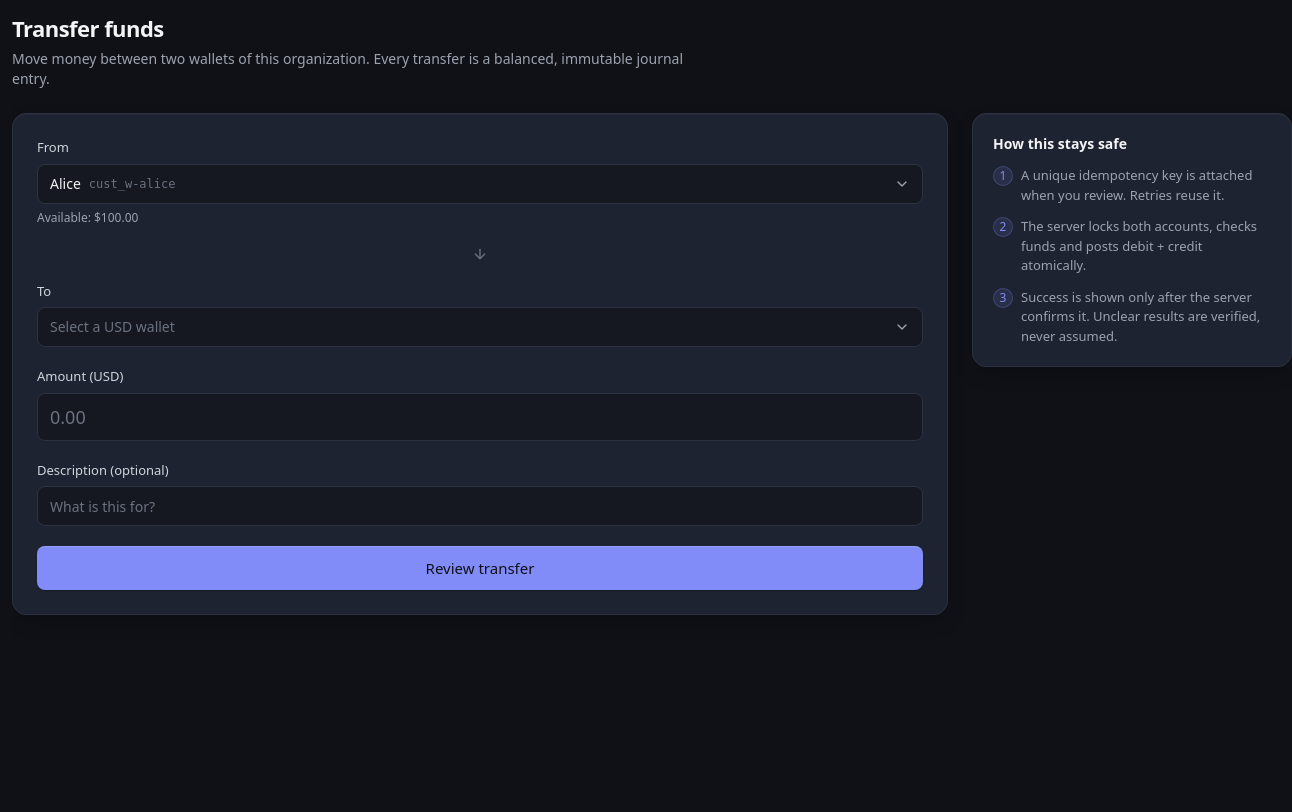
TransferPage › rejects amounts above the available balance
Expected: the text "Available: $100.00" is shown, [37,208,138,226]
Click the dropdown named "to" at (112, 326), box [37,307,923,347]
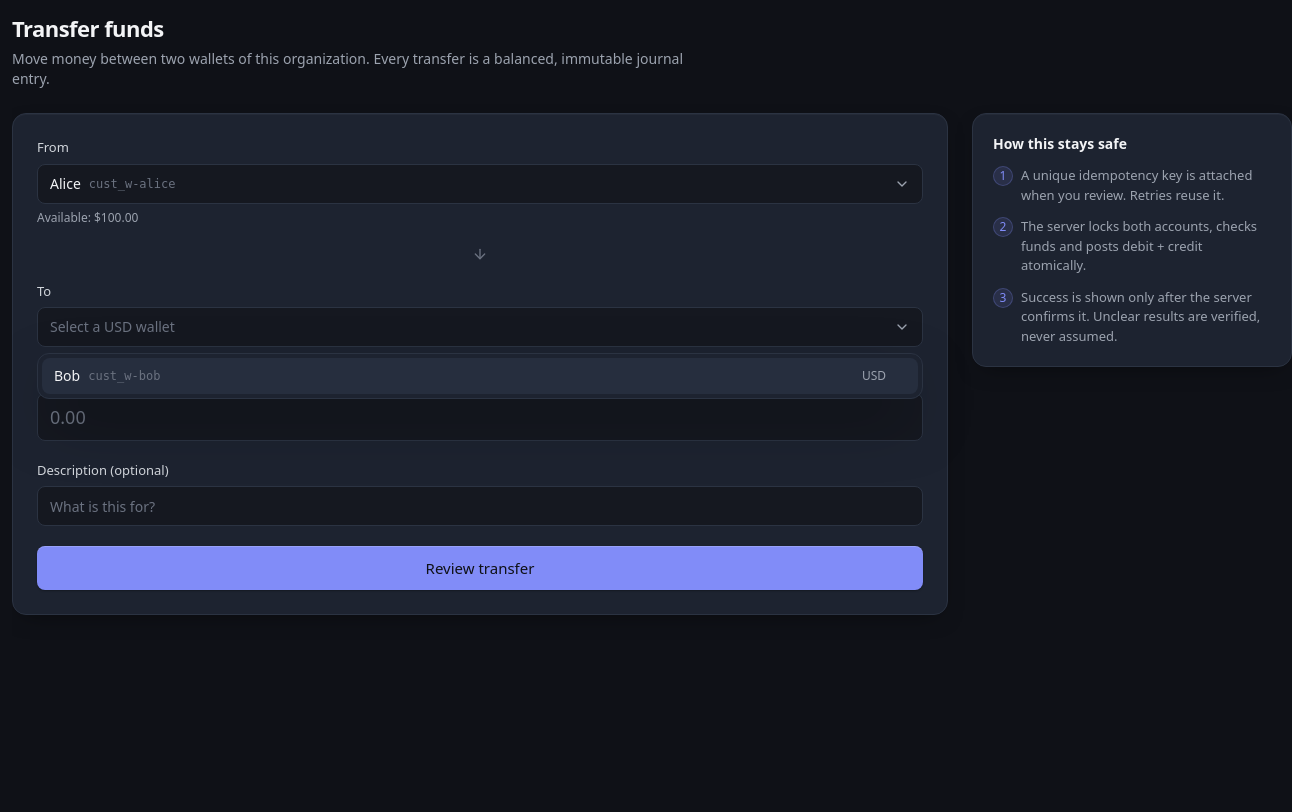
Click the option "Bob cust_w-bob USD" at (124, 376), box [42,358,918,394]
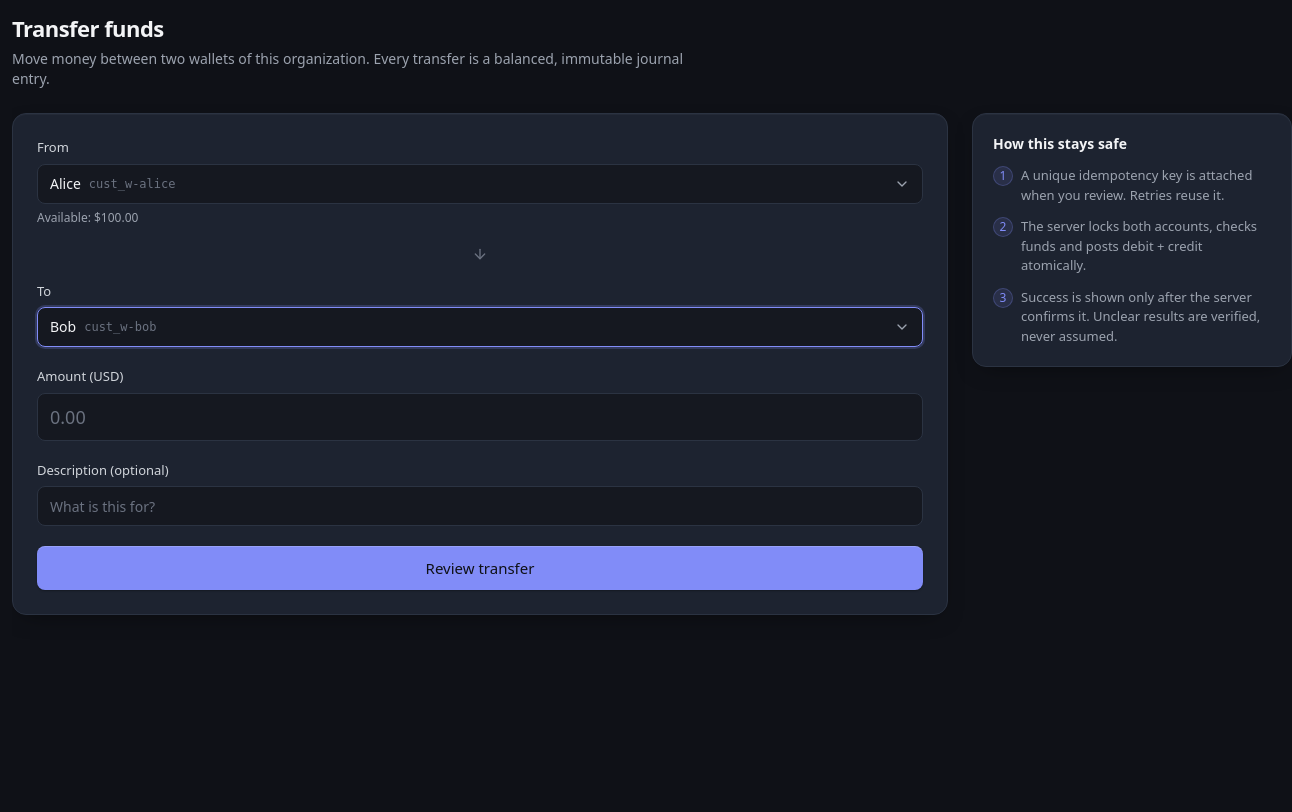
Type "100.01" into the field labelled "Amount (USD)" at (480, 416), box [37,392,923,440]
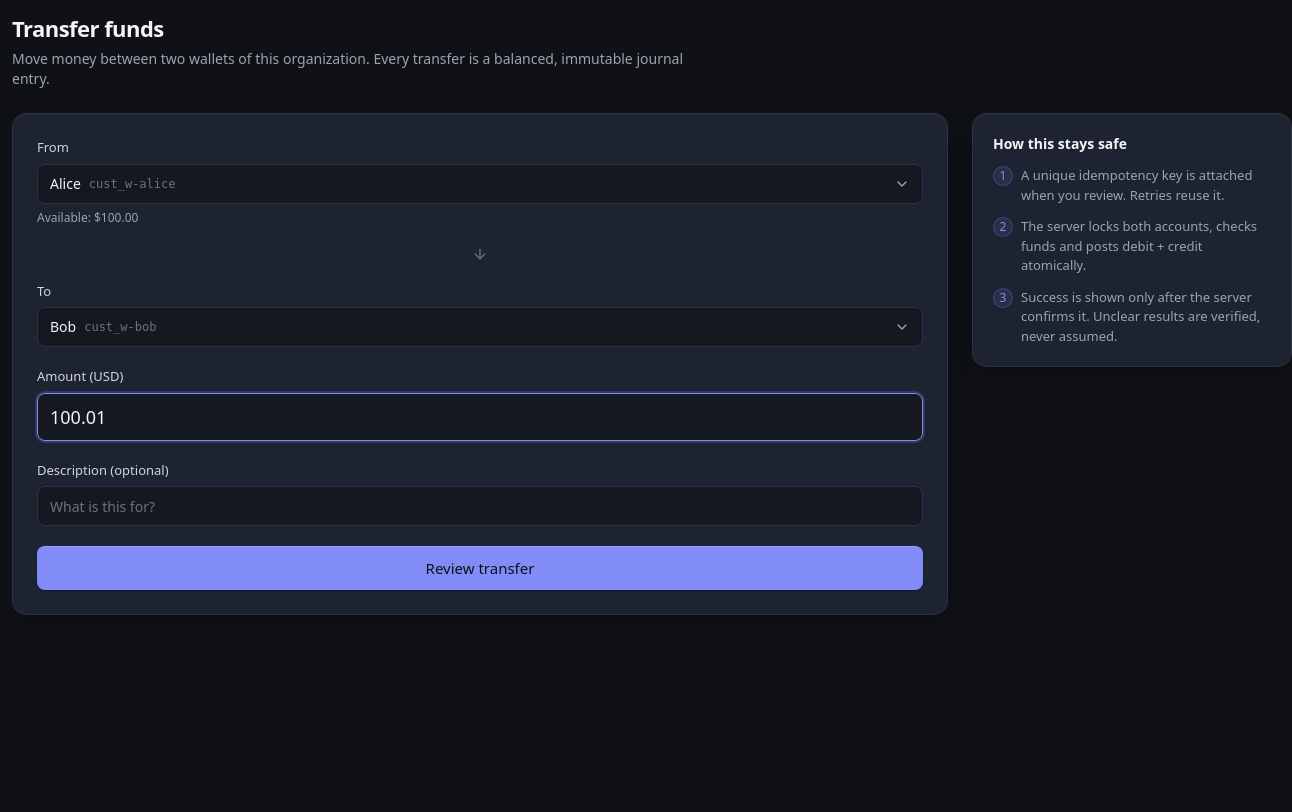
Click the button "Review transfer" at (480, 568), box [37,546,923,590]
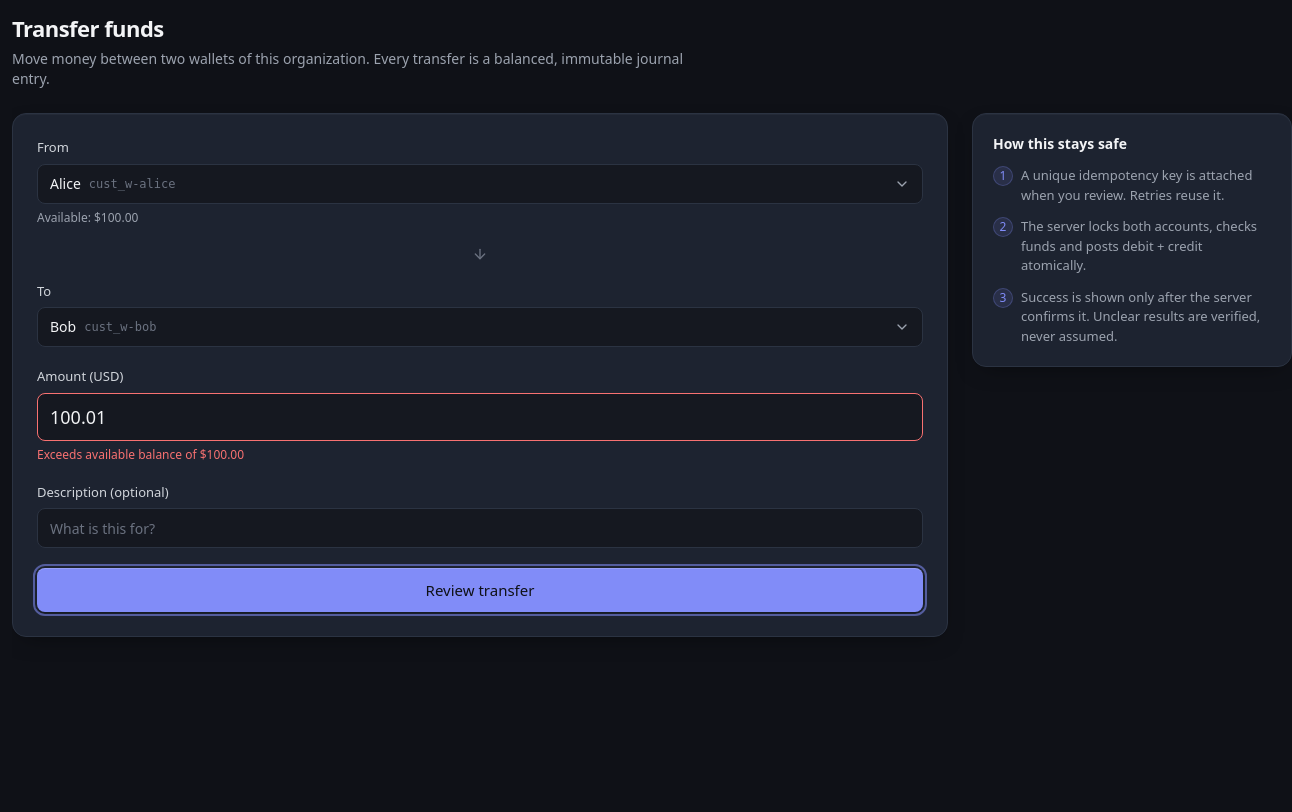
Now the message shows "Exceeds available balance", box [37,446,244,462]
